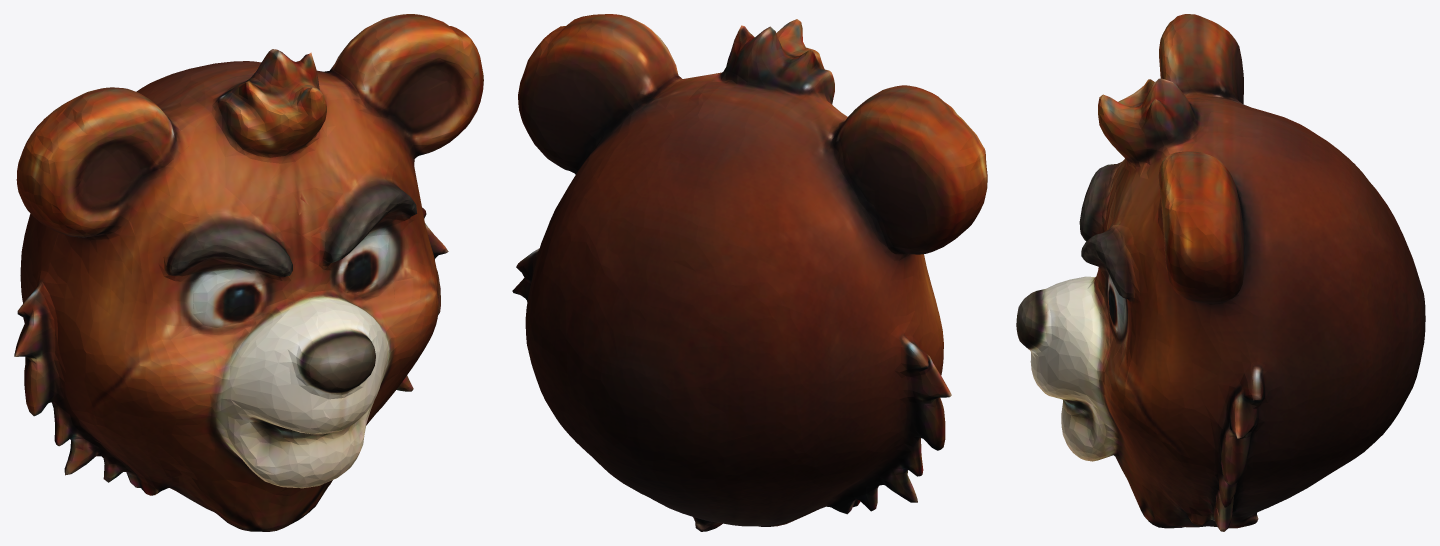
File: freddy.glb
The picture shows the model from 3 angles, left to right: view 1: azimuth 30°, elevation 25°; view 2: azimuth 150°, elevation 25°; view 3: azimuth 270°, elevation 25°; orthographic projection. The views are drawn at different scales.
Parts seen in each view (by area): view 1: mesh.obj; view 2: mesh.obj; view 3: mesh.obj.
Part boxes in pixels (<box>): mesh.obj: <box>14,14,483,531</box>; mesh.obj: <box>512,14,987,531</box>; mesh.obj: <box>1016,14,1425,531</box>.
Bounding box in the file's own units: 0.9191 × 0.9324 × 0.7766.
1 material, 1 textured.
